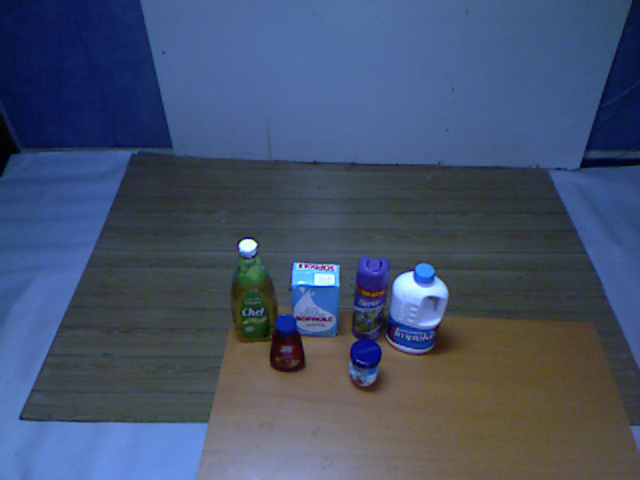aceite: (224, 235, 281, 347)
aerosol: (347, 254, 392, 346)
cloro: (384, 257, 452, 359)
crema: (346, 338, 386, 392)
ketchup: (265, 315, 310, 376)
leche: (284, 257, 344, 343)
